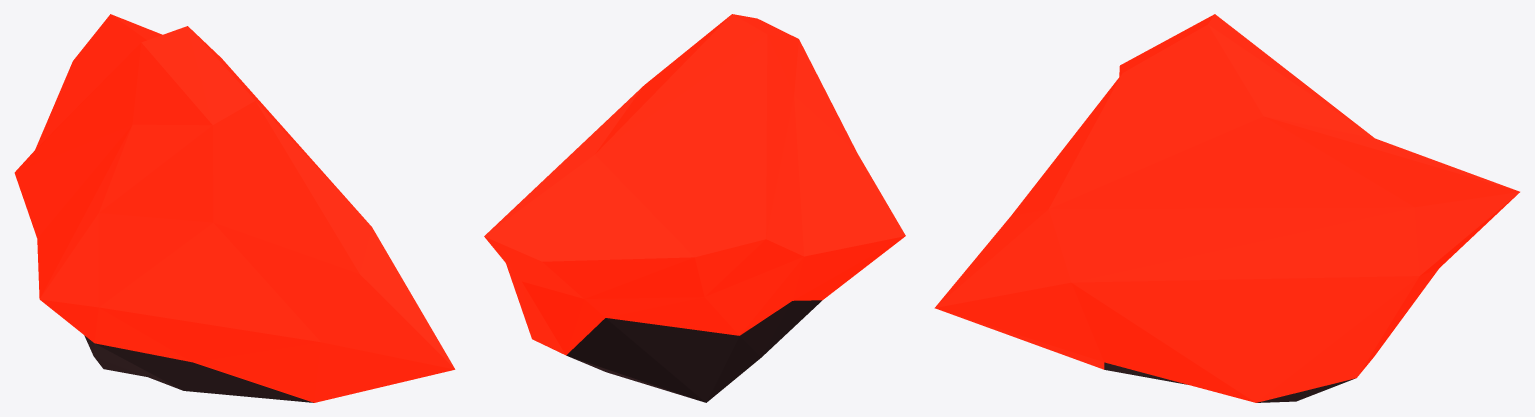
Rendered from badRock.fbx.
The picture shows the model from 3 angles, left to right: view 1: azimuth 30°, elevation 25°; view 2: azimuth 150°, elevation 25°; view 3: azimuth 270°, elevation 25°; orthographic projection. The views are drawn at different scales.
Parts seen in each view (by area): view 1: Icosphere; view 2: Icosphere; view 3: Icosphere.
Boxes of the visible parts, x1,y1,x2,y2 form: Icosphere: (14,14,455,402); Icosphere: (484,14,905,402); Icosphere: (934,14,1519,402).
Size of the model in its own units: 296 by 339 by 531.
